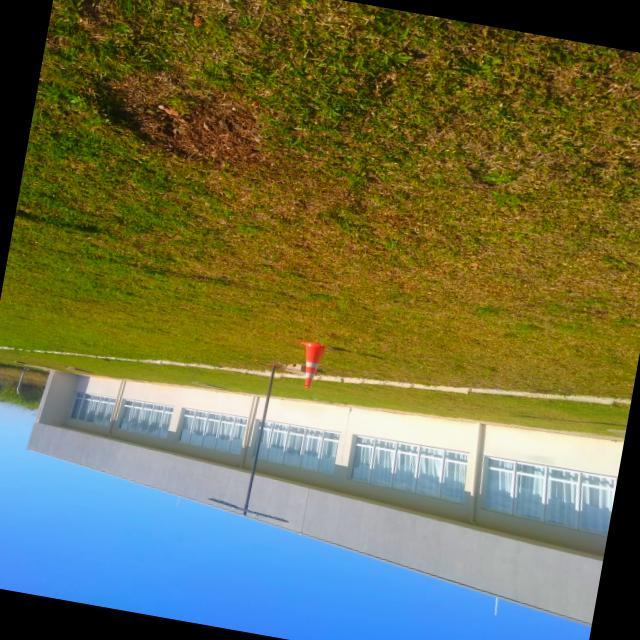cone: (290, 337, 336, 395)
